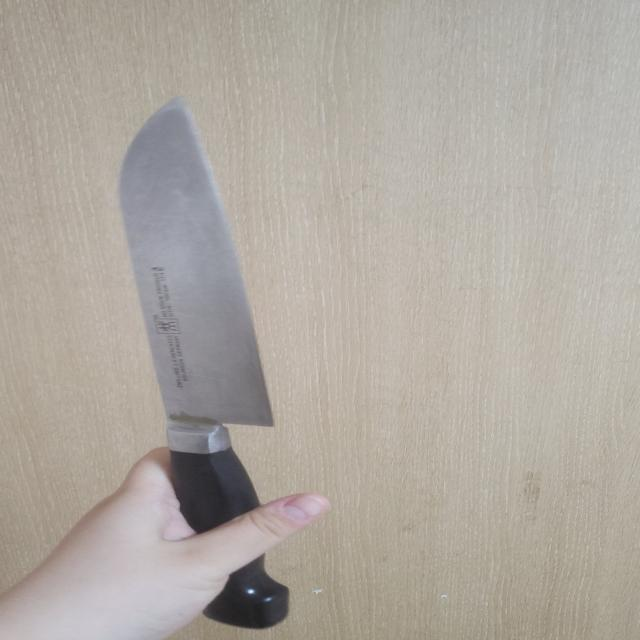knife: (119, 94, 292, 631)
